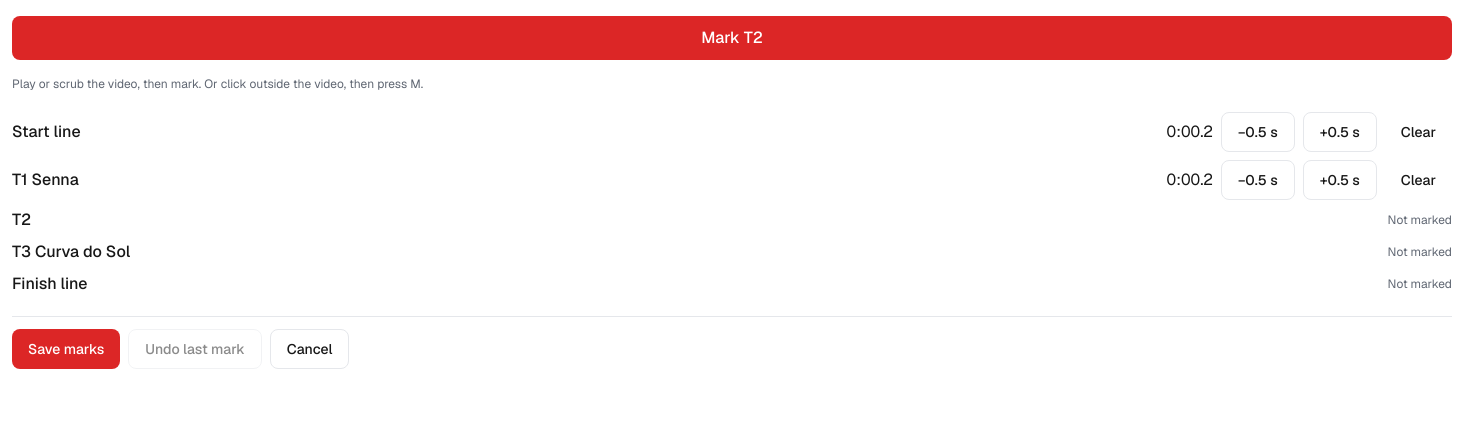
MarkCorners › never nudges before 0:00
Click the button named "Earlier T1". click: (1258, 180)
box: x1=1221 y1=160 x2=1295 y2=200
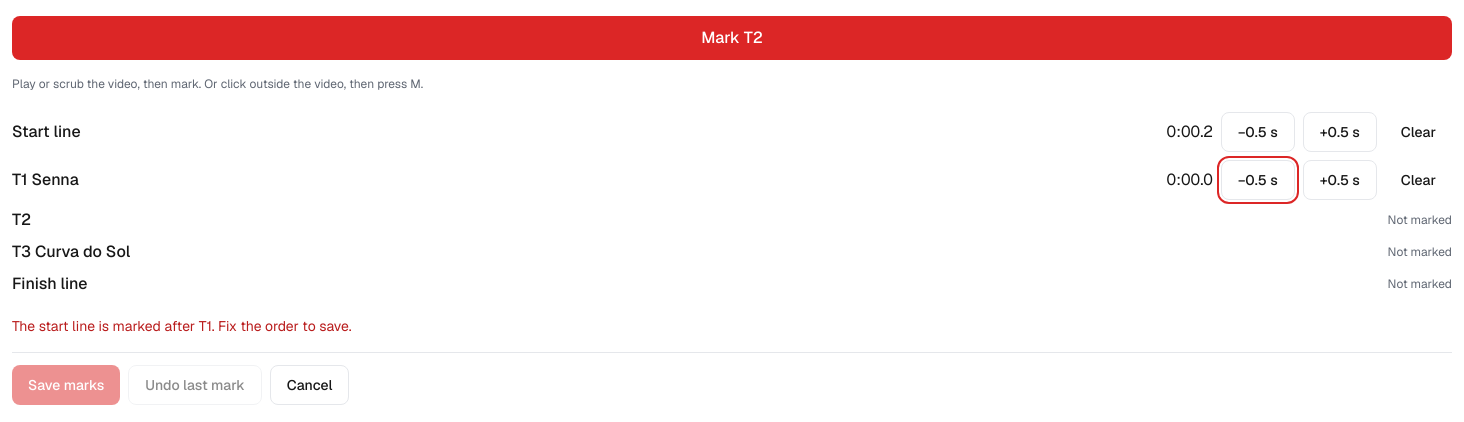
Result: the text "0:00.0" is shown at x1=1167 y1=168 x2=1213 y2=192
